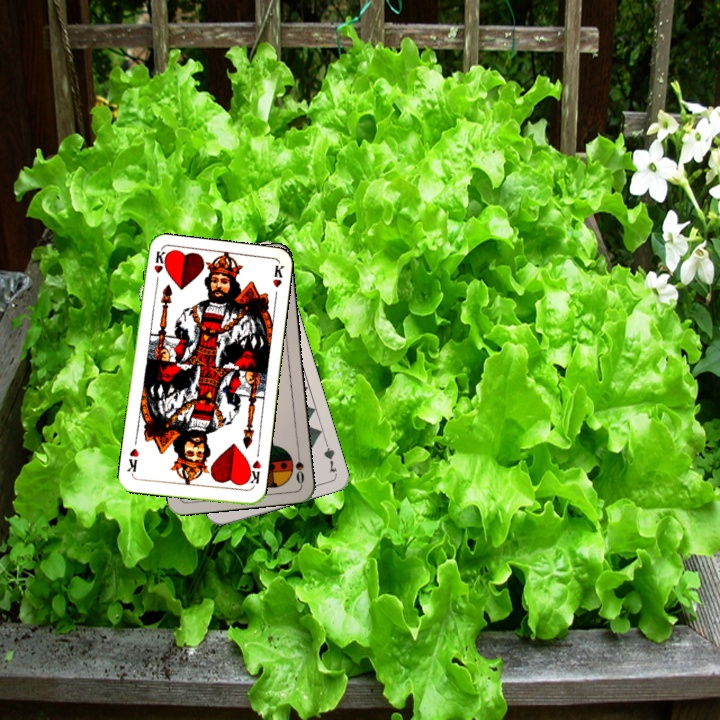G7: (320, 435, 340, 476)
HK: (242, 456, 263, 490), (150, 248, 167, 289)
SO: (291, 446, 307, 486)
